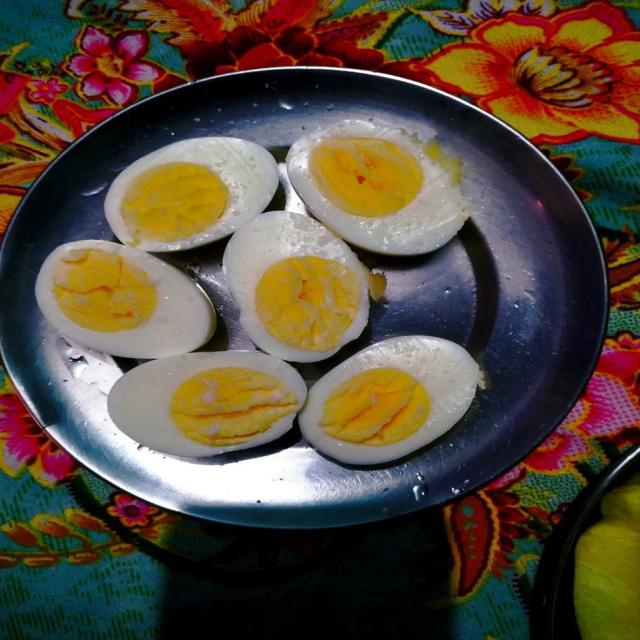eggs: (50, 131, 520, 466)
